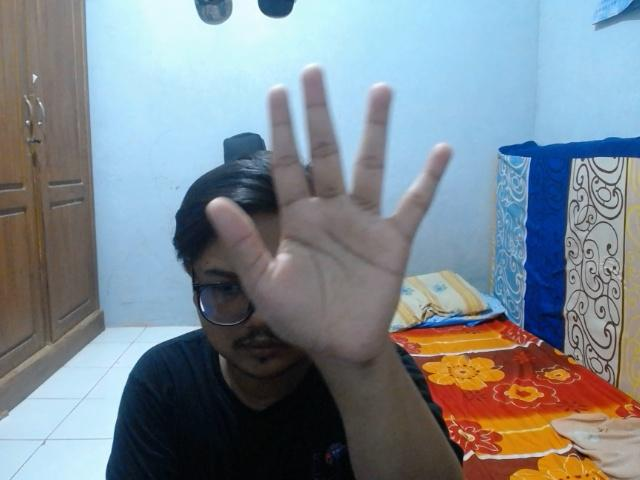Release: (201, 56, 454, 369)
